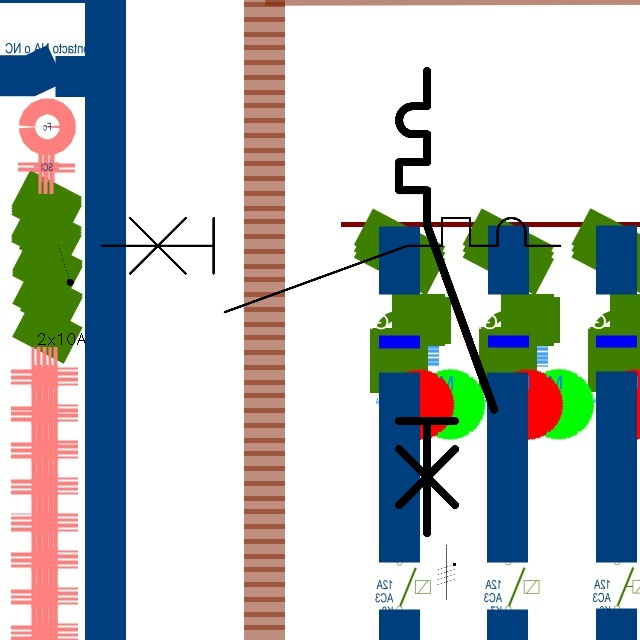interruptor_termomagnetico: (387, 59, 506, 545), (90, 206, 571, 324)
